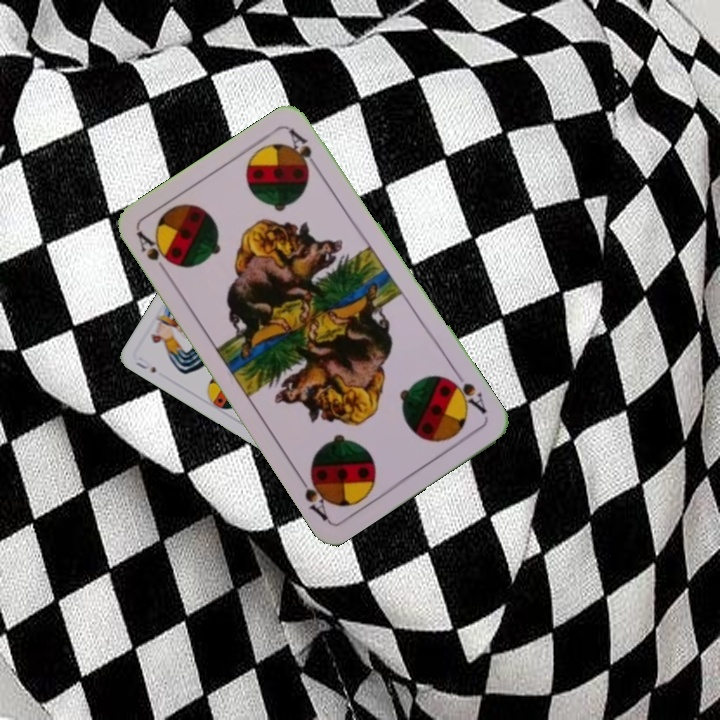SA: (132, 227, 180, 280), (443, 367, 490, 417)
SU: (131, 353, 159, 375)
